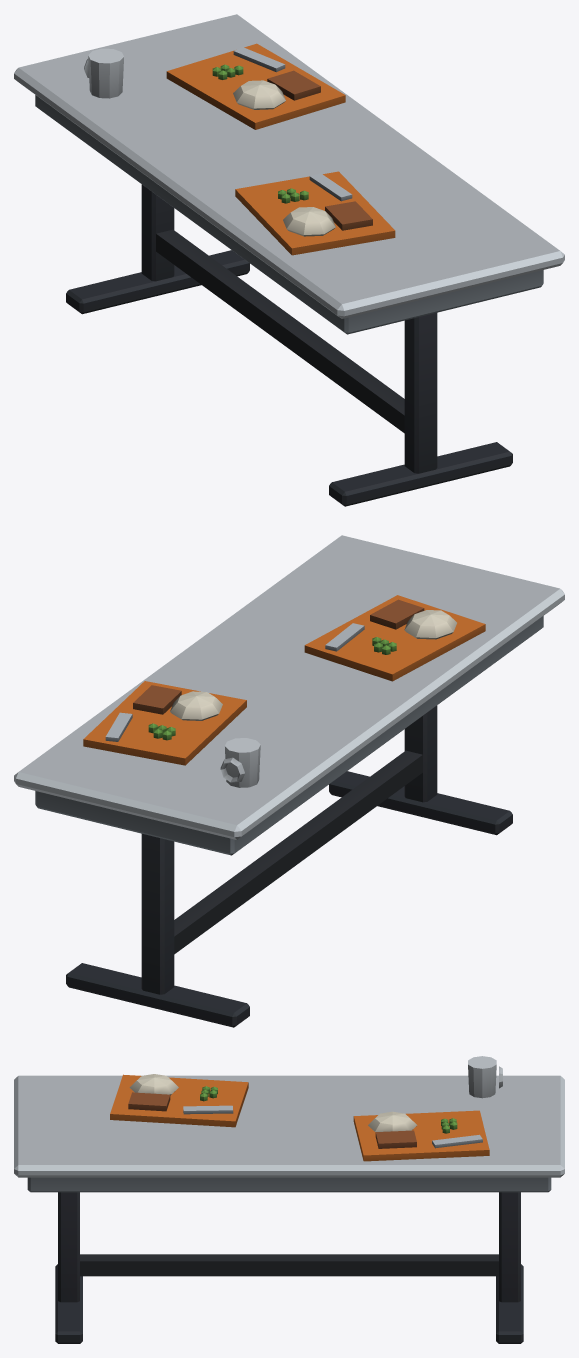
The model's file is table_canteen.glb.
3 views of the same model, one above another, from view 1: azimuth 30°, elevation 25°; view 2: azimuth 150°, elevation 25°; view 3: azimuth 270°, elevation 25° (orthographic). The views are drawn at different scales.
Visible parts, largest first — view 1: Body; view 2: Body; view 3: Body.
Boxes of the visible parts, x1=… form: Body: x1=14, y1=14, x2=564, y2=506; Body: x1=14, y1=535, x2=564, y2=1027; Body: x1=14, y1=1056, x2=564, y2=1343.
Size of the model in its own units: 0.8 by 0.88 by 2.
